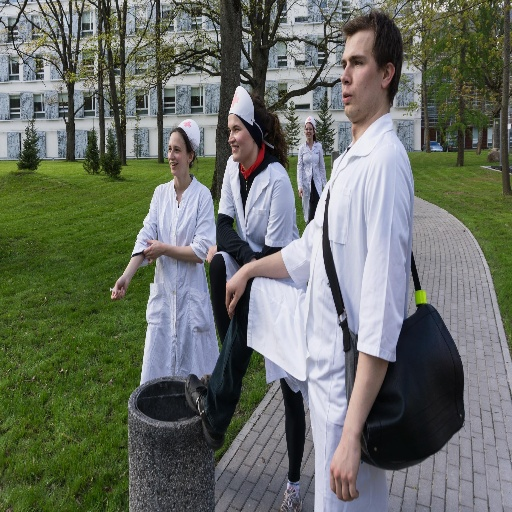hand: (334, 400, 368, 504), (225, 261, 247, 321), (140, 237, 165, 267), (109, 273, 129, 301), (205, 244, 217, 265), (298, 186, 304, 199)
